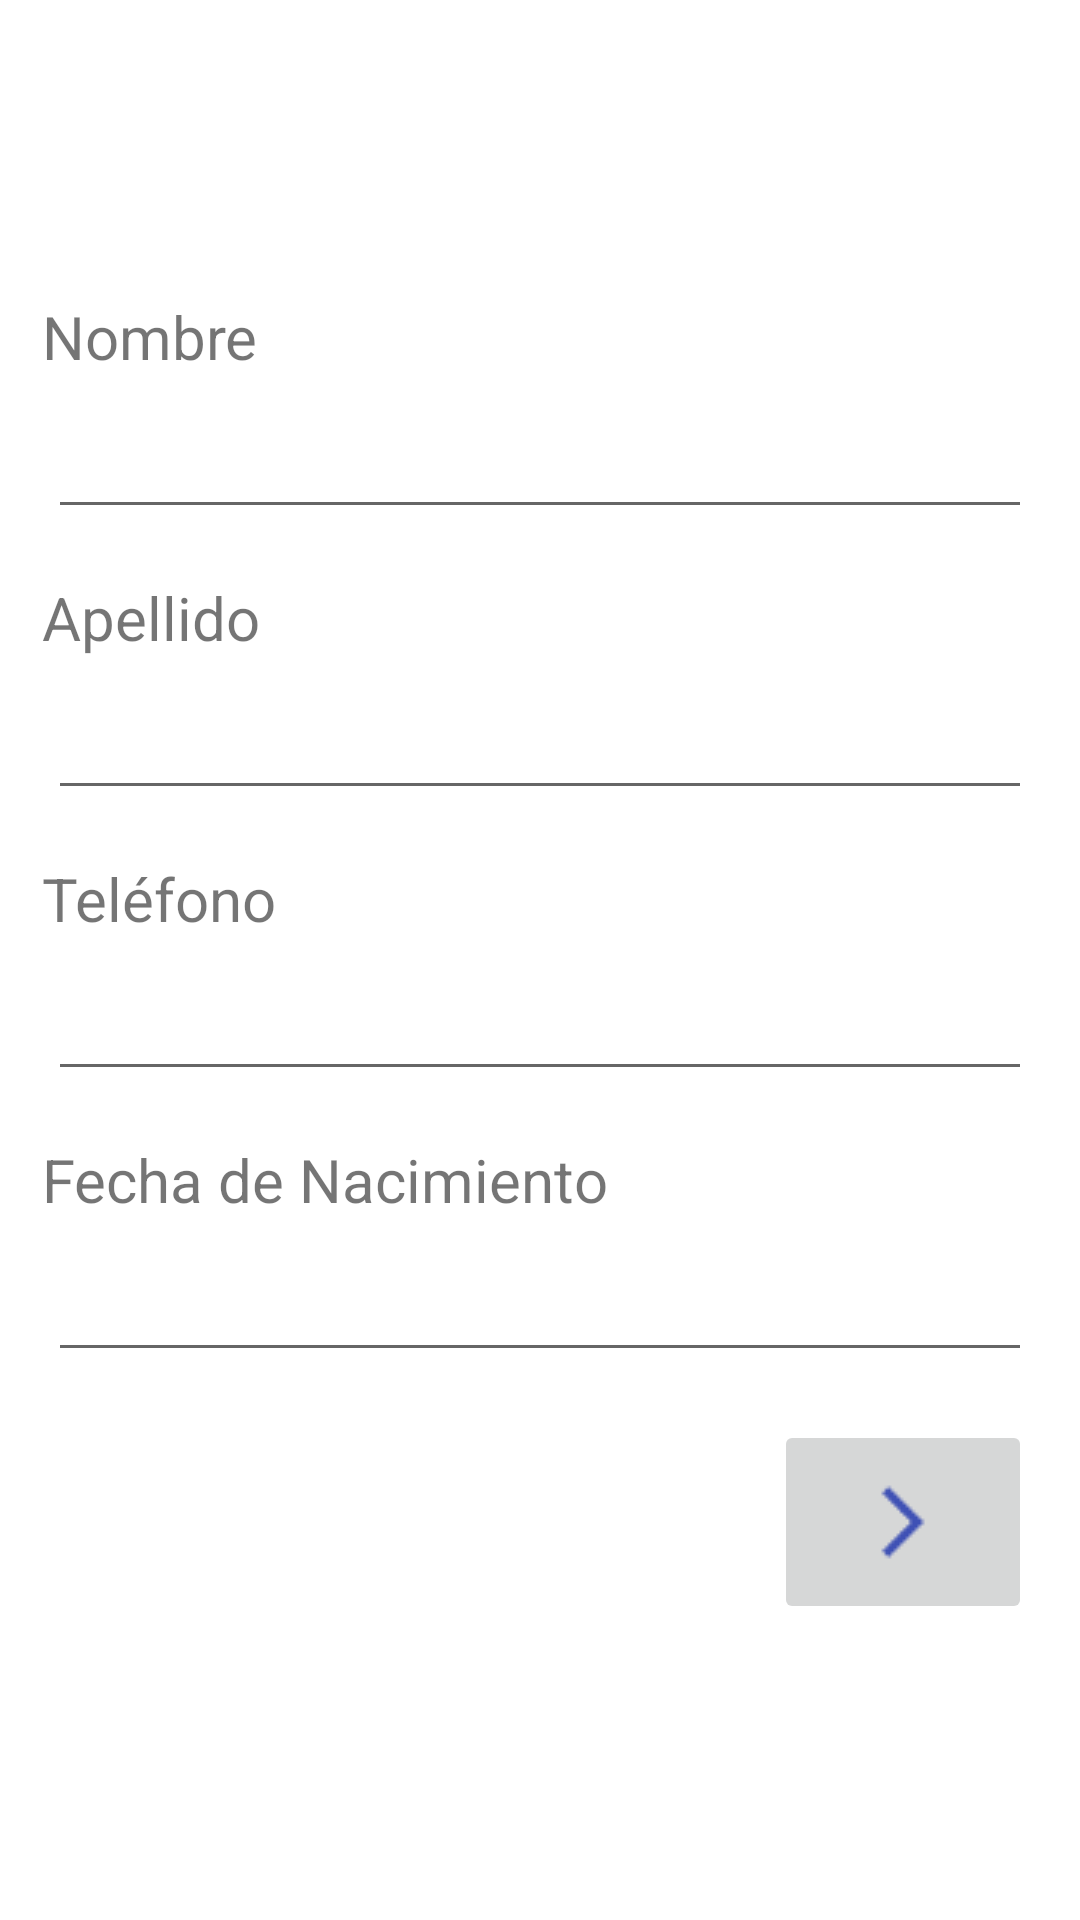

Where to tap for icons on this 1080x1920 app screen, as point (x, y):
arrow forward: point (903, 1522)
